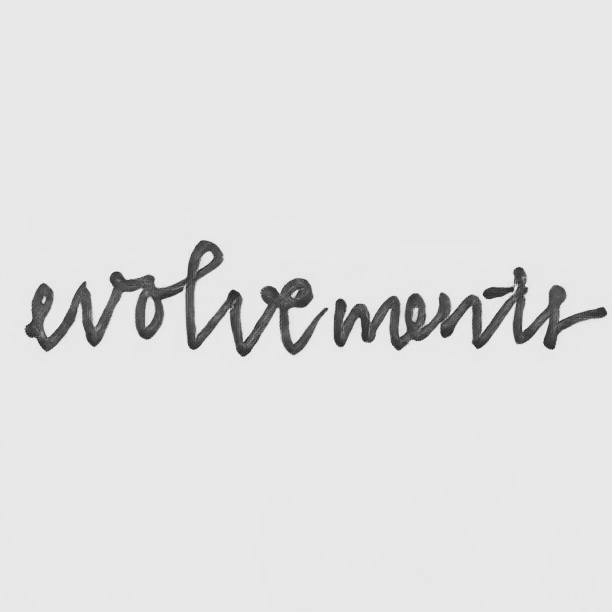e: (277, 276, 325, 356), (26, 280, 61, 355), (402, 287, 432, 344)
l: (180, 238, 225, 351)
m: (332, 292, 402, 351)
n: (434, 291, 487, 351)
o: (130, 282, 167, 341)
s: (539, 283, 575, 351)
t: (493, 265, 538, 348)
v: (72, 270, 124, 349), (226, 283, 275, 359)
